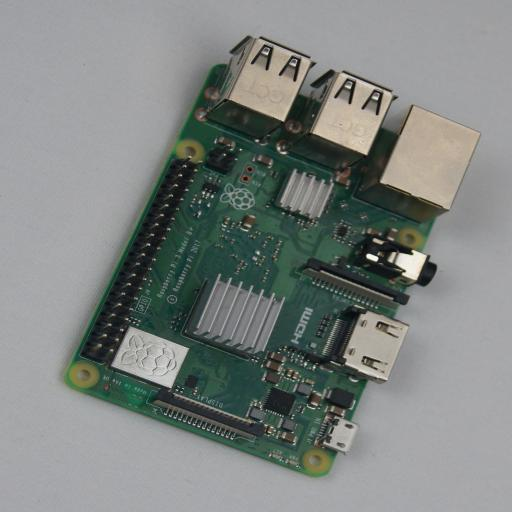Raspberry Pi 3 B-: (65, 36, 465, 476)
